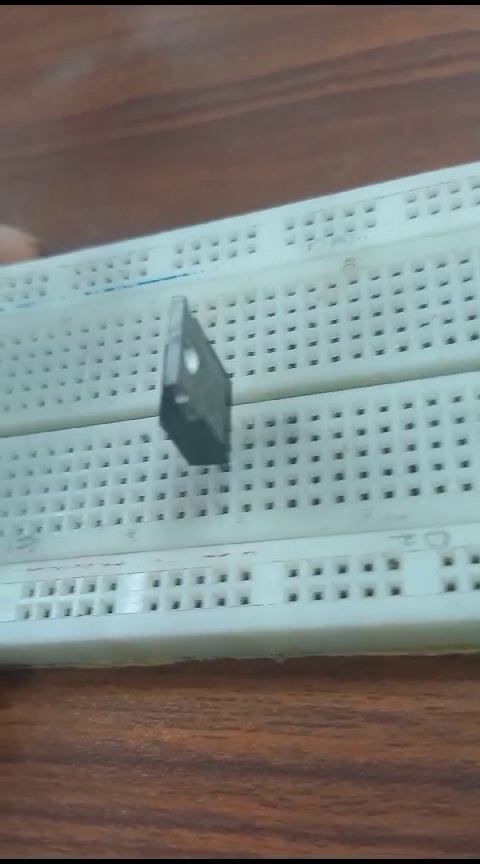voltage regulator: (136, 295, 240, 481)
